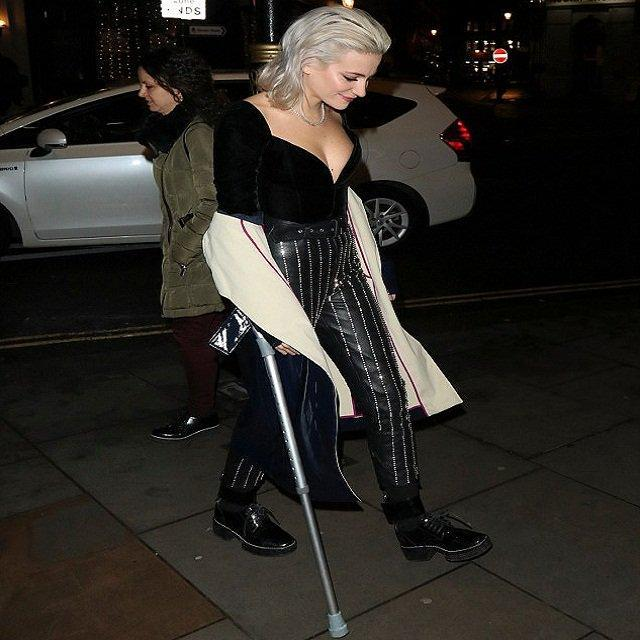crutches: (209, 0, 505, 640)
